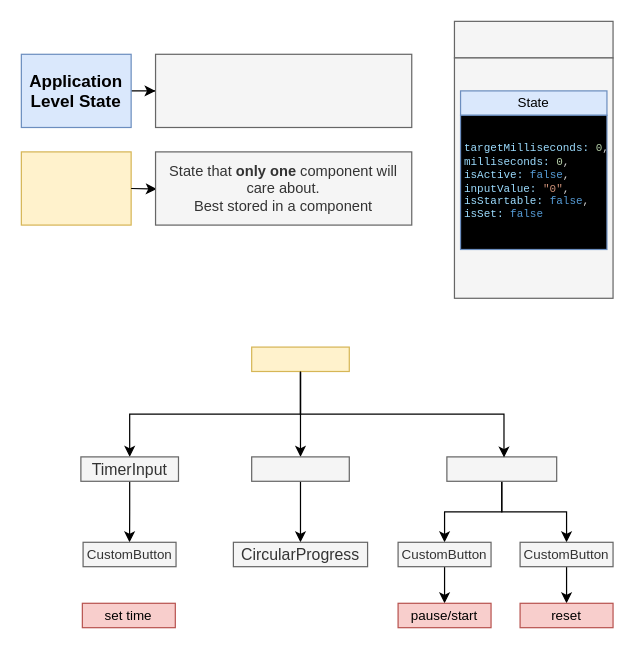
The diagram is 634 pixels wide and 649 high, and some of its shapes have lost their labels. The shapes that lost their labels are listed below. From the top down, each one's centre as x and y in pixels, then its label:
At (x=533, y=39): "stopwatchReducer".
At (x=283, y=90): "State that many components will care about. Best stored in Redux".
At (x=75, y=188): "Component Level State".
At (x=299, y=358): "App".
At (x=299, y=468): "Display".
At (x=501, y=468): "ControlPanel".
